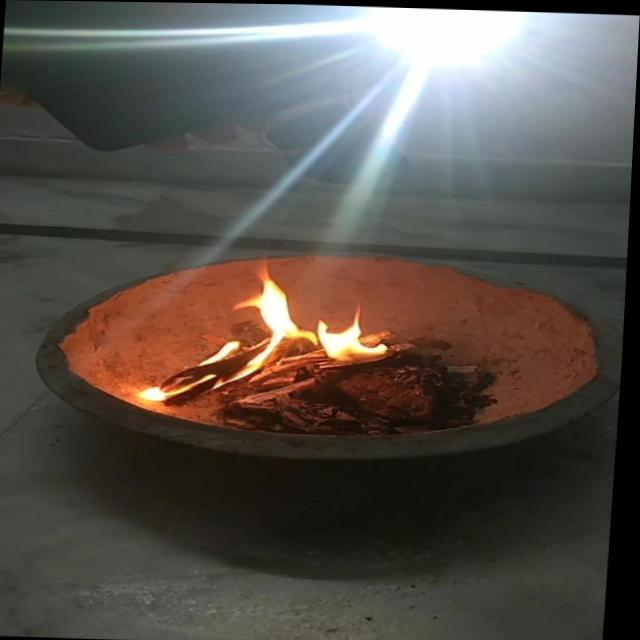fire: (142, 265, 414, 411)
